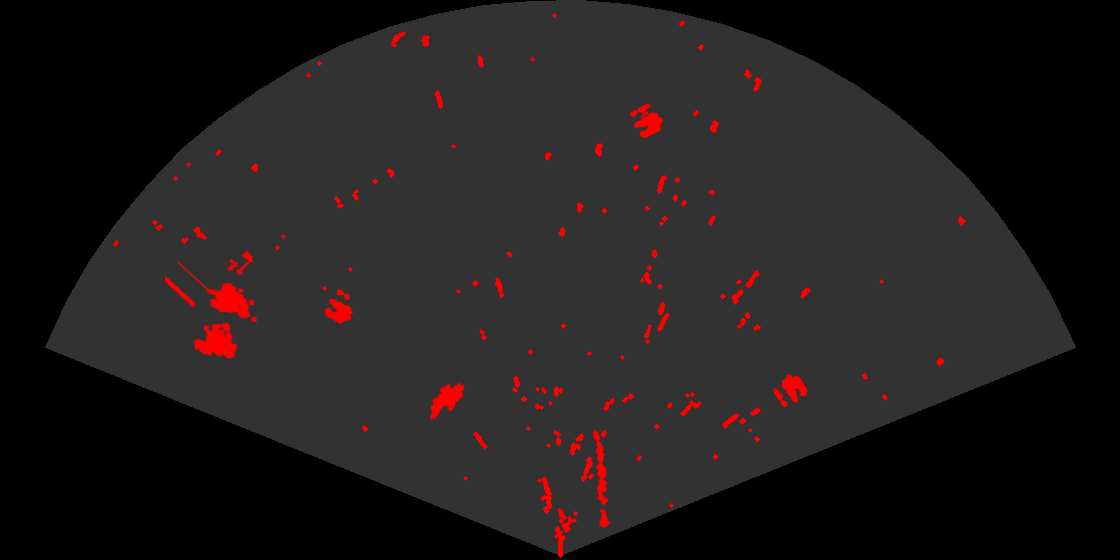AUV: (429, 381, 466, 421)
ball: (628, 102, 665, 140), (772, 373, 809, 409), (323, 288, 354, 325)
cage: (165, 262, 259, 360)
chain: (591, 428, 612, 529)
